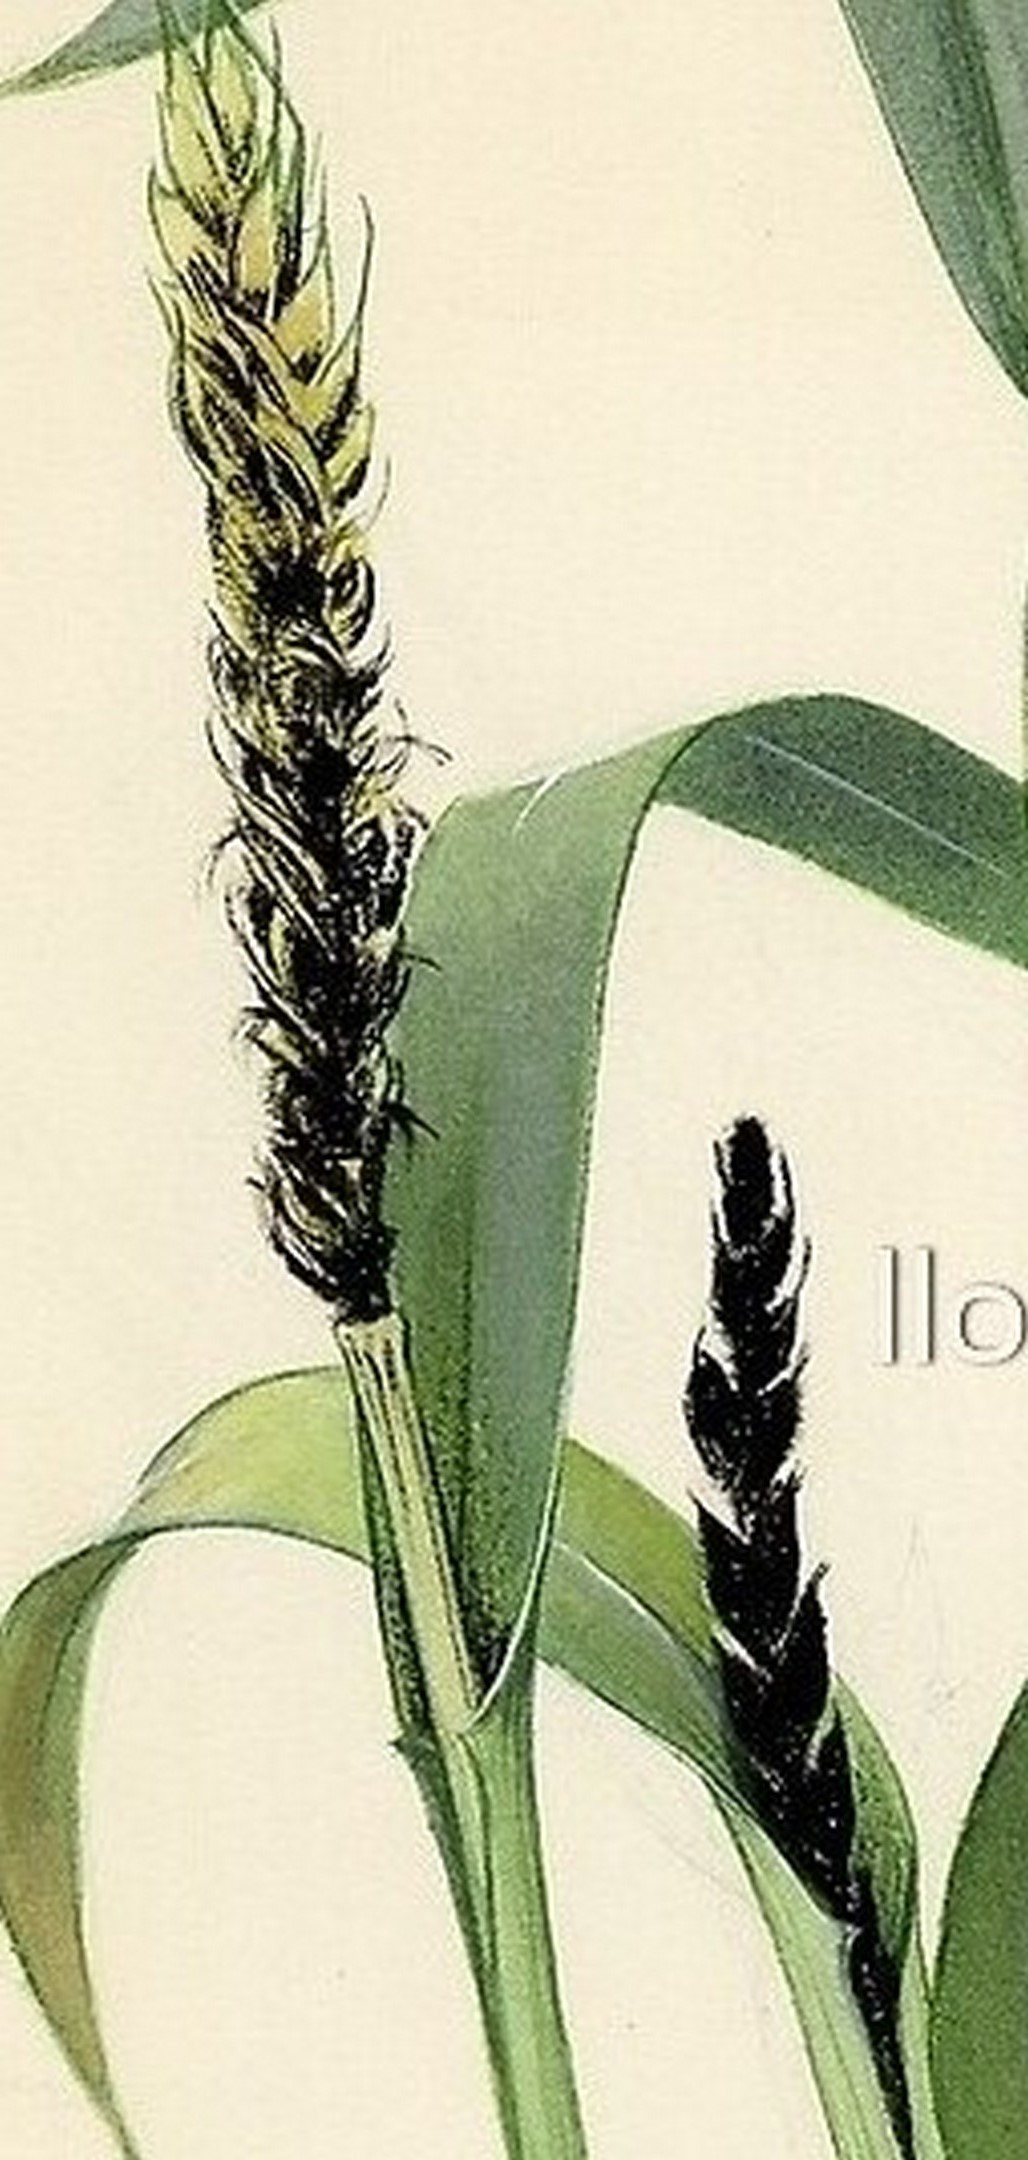Wheat Loose Smut: (644, 1103, 905, 1861)
